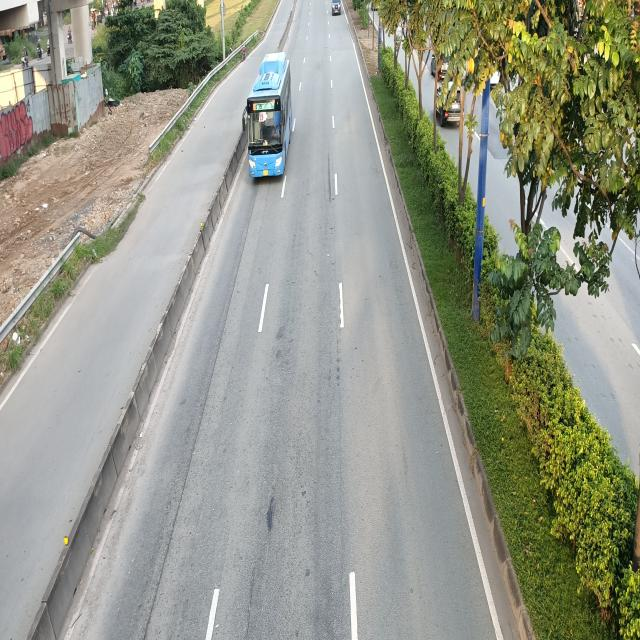coach: (240, 52, 292, 181)
